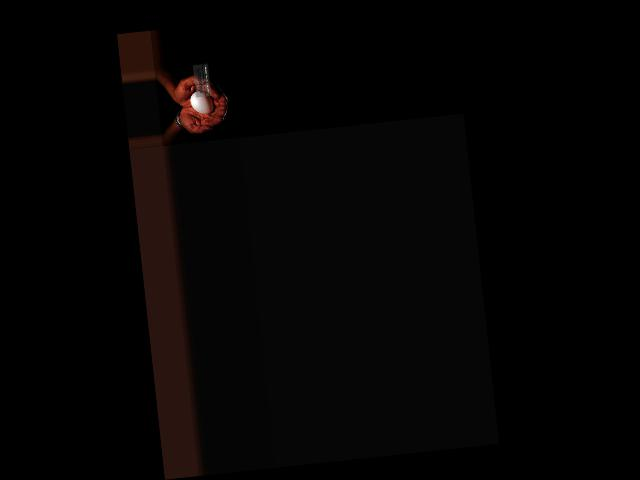egg: (189, 90, 215, 116)
